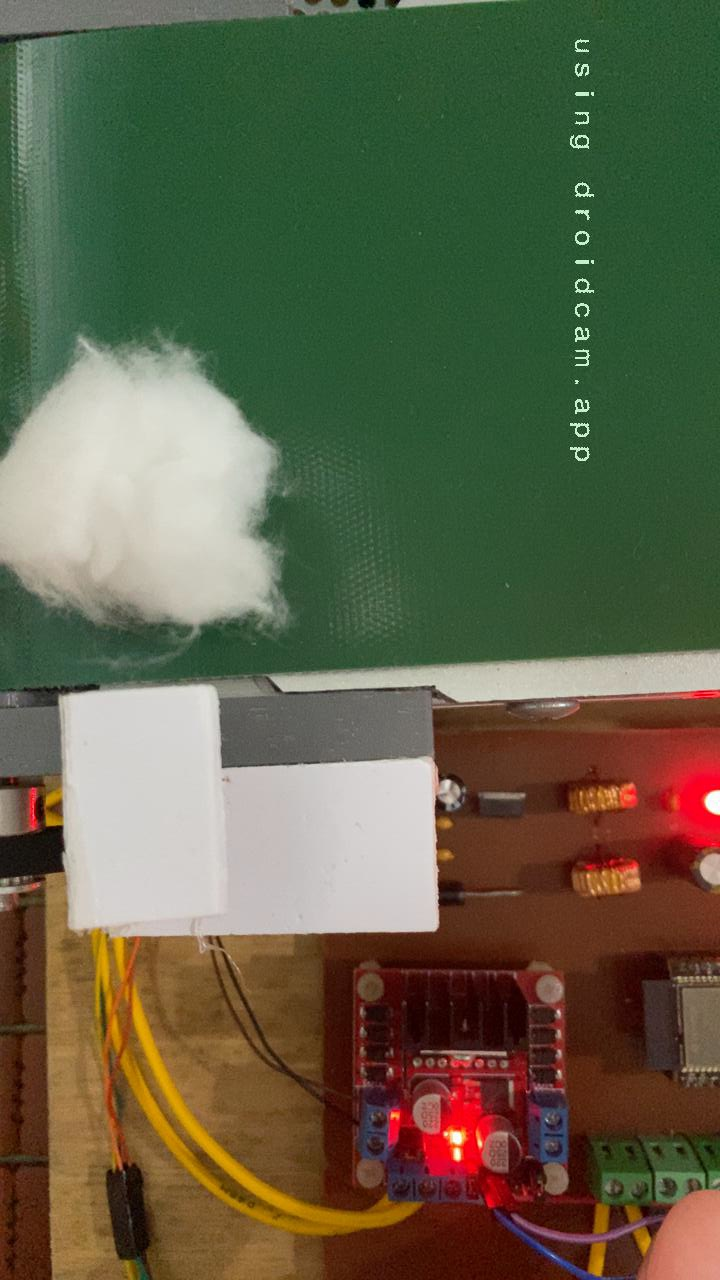cotton: (0, 330, 295, 640)
